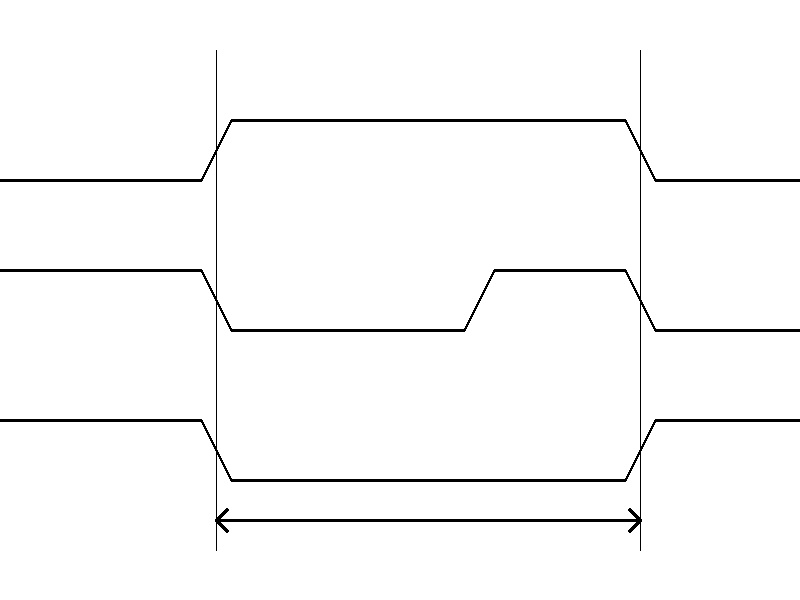double_arrow: (216, 505, 640, 535)
